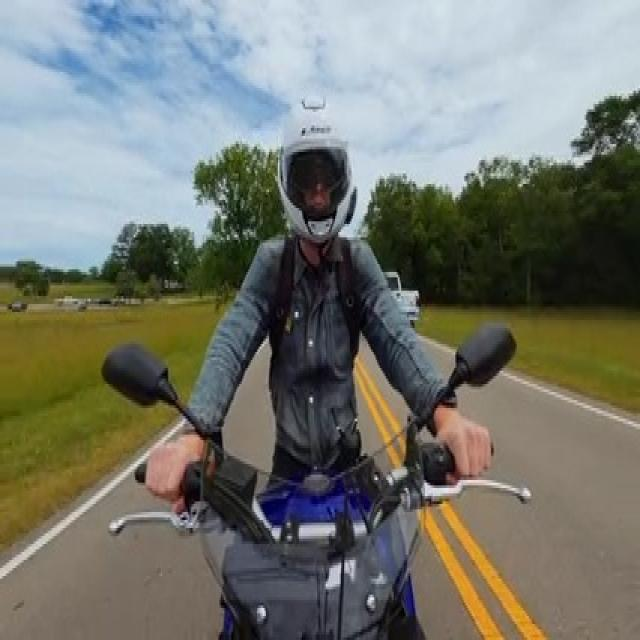Helmet_Wearer: (271, 79, 361, 242)
Person: (152, 82, 489, 494)
